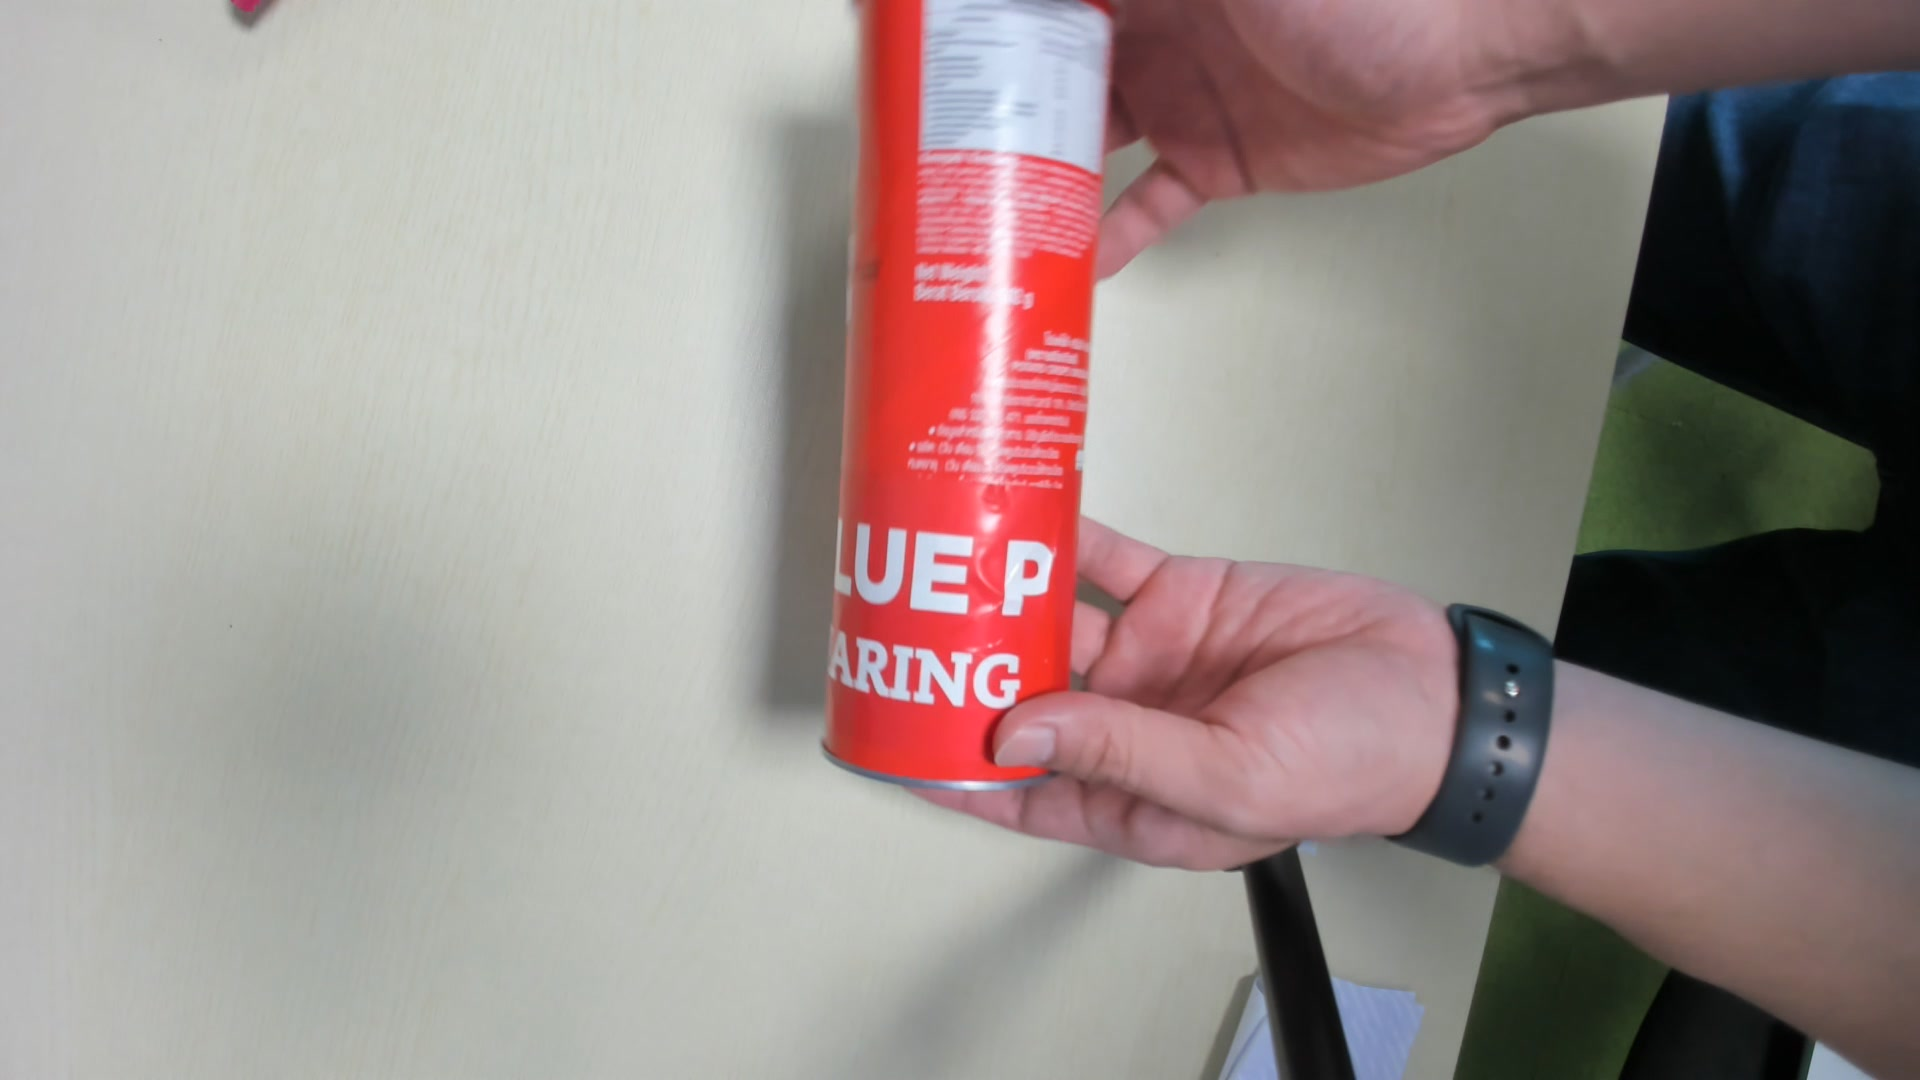PotatoChipsKeropok_100-199g_NonHalal_NonHealthy: (815, 11, 1124, 793)
